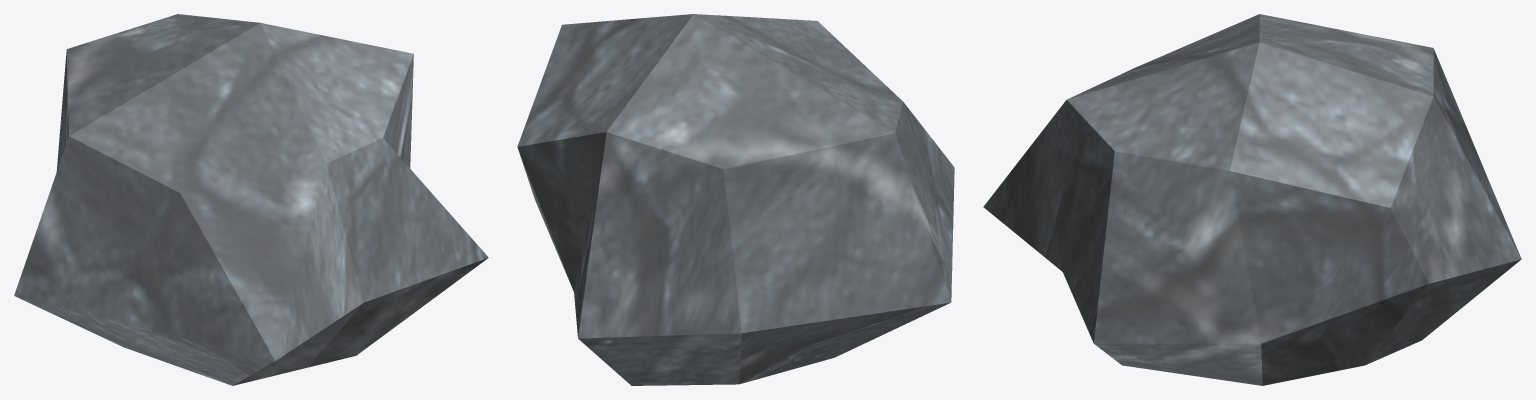
File: RockD.fbx
3 views of the same model, side by side, from view 1: azimuth 30°, elevation 25°; view 2: azimuth 150°, elevation 25°; view 3: azimuth 270°, elevation 25° (orthographic). The views are drawn at different scales.
Parts seen in each view (by area): view 1: RockD; view 2: RockD; view 3: RockD.
Part boxes in pixels (<box>): RockD: <box>14,14,488,385</box>; RockD: <box>517,14,954,385</box>; RockD: <box>983,14,1521,385</box>.
Bounding box in the file's own units: 178 × 126 × 199.
